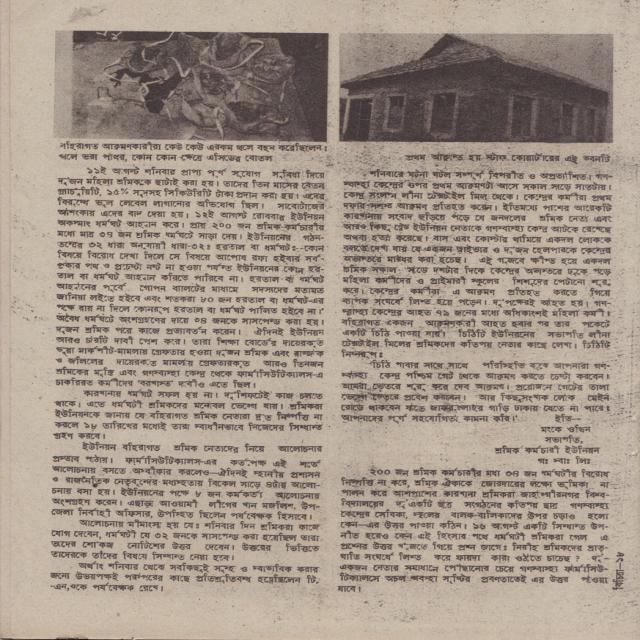caption: (400, 150, 615, 168)
image: (53, 30, 328, 141), (337, 34, 613, 144)
page number: (614, 550, 627, 564)
paragraph: (49, 163, 331, 391), (336, 165, 617, 362), (333, 465, 615, 599), (43, 440, 334, 562), (335, 358, 615, 427), (48, 387, 328, 442), (45, 558, 326, 594), (53, 140, 328, 164), (490, 413, 605, 467)
text: (611, 568, 628, 591)
